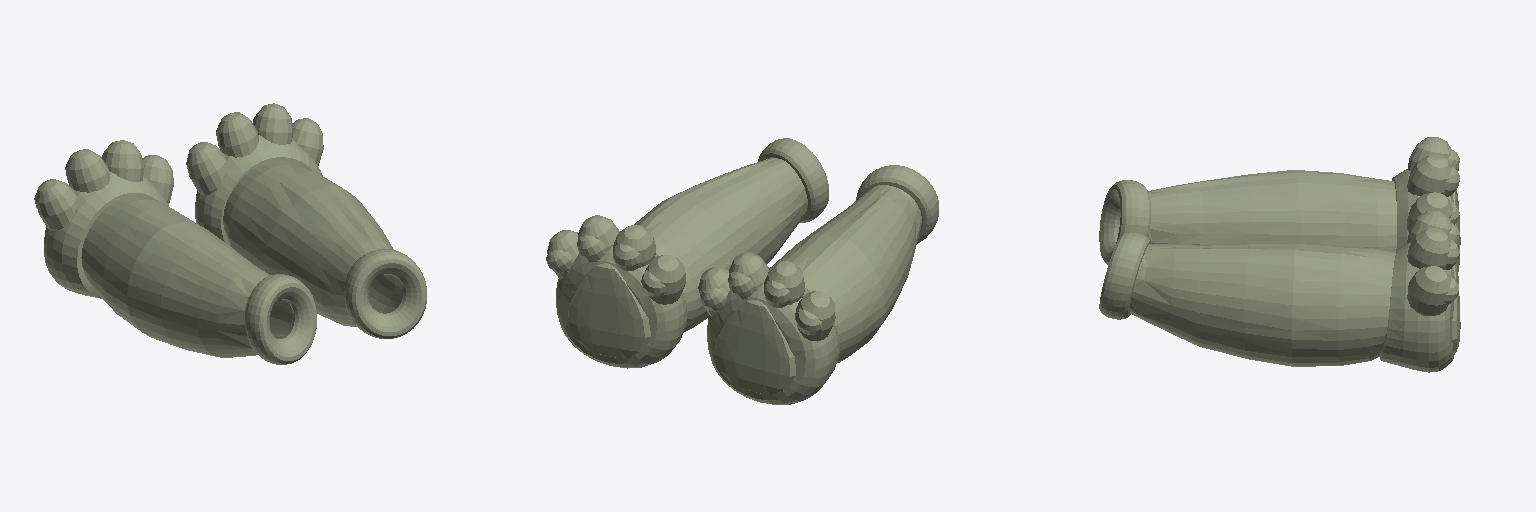
Rendered from Boots_default.obj.
3 renders of one model, left to right at view 1: azimuth 30°, elevation 25°; view 2: azimuth 150°, elevation 25°; view 3: azimuth 270°, elevation 25°, orthographic.
Visible parts, largest first — view 1: Boots_default; view 2: Boots_default; view 3: Boots_default.
Part boxes in pixels (left/top/right/bottom): Boots_default: left=34, top=103, right=426, bottom=364; Boots_default: left=546, top=138, right=938, bottom=404; Boots_default: left=1099, top=137, right=1460, bottom=372.
Bounding box in the file's own units: 5.11 × 2.47 × 5.65.